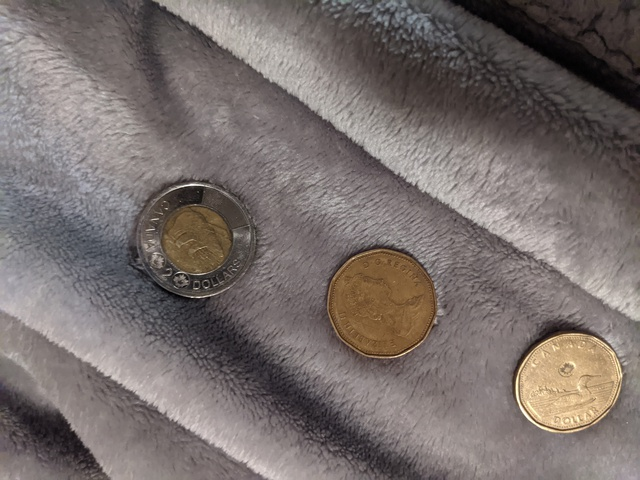loonie: (314, 235, 445, 361), (518, 323, 612, 441)
twonie: (121, 167, 261, 300)
